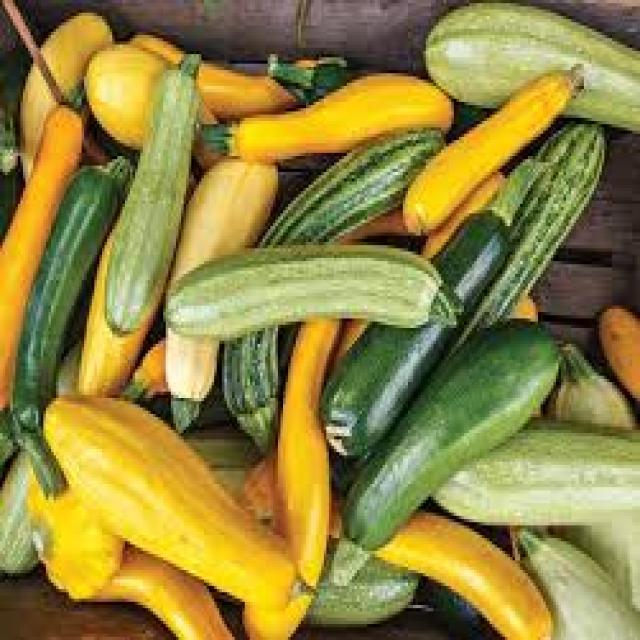Zucchini: (167, 244, 459, 333)
